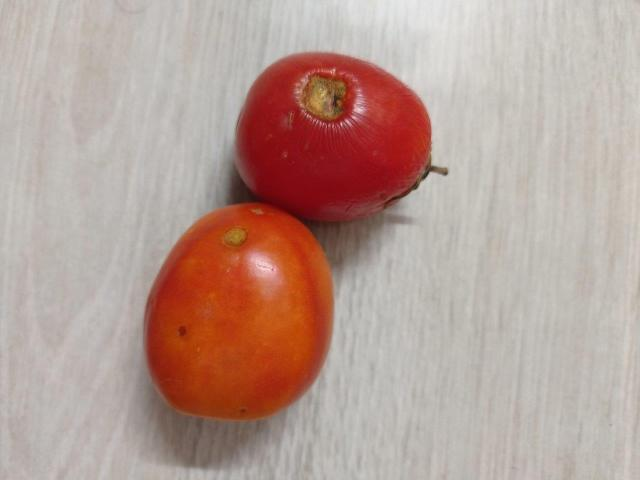defect: (229, 49, 450, 224), (218, 225, 252, 251)
